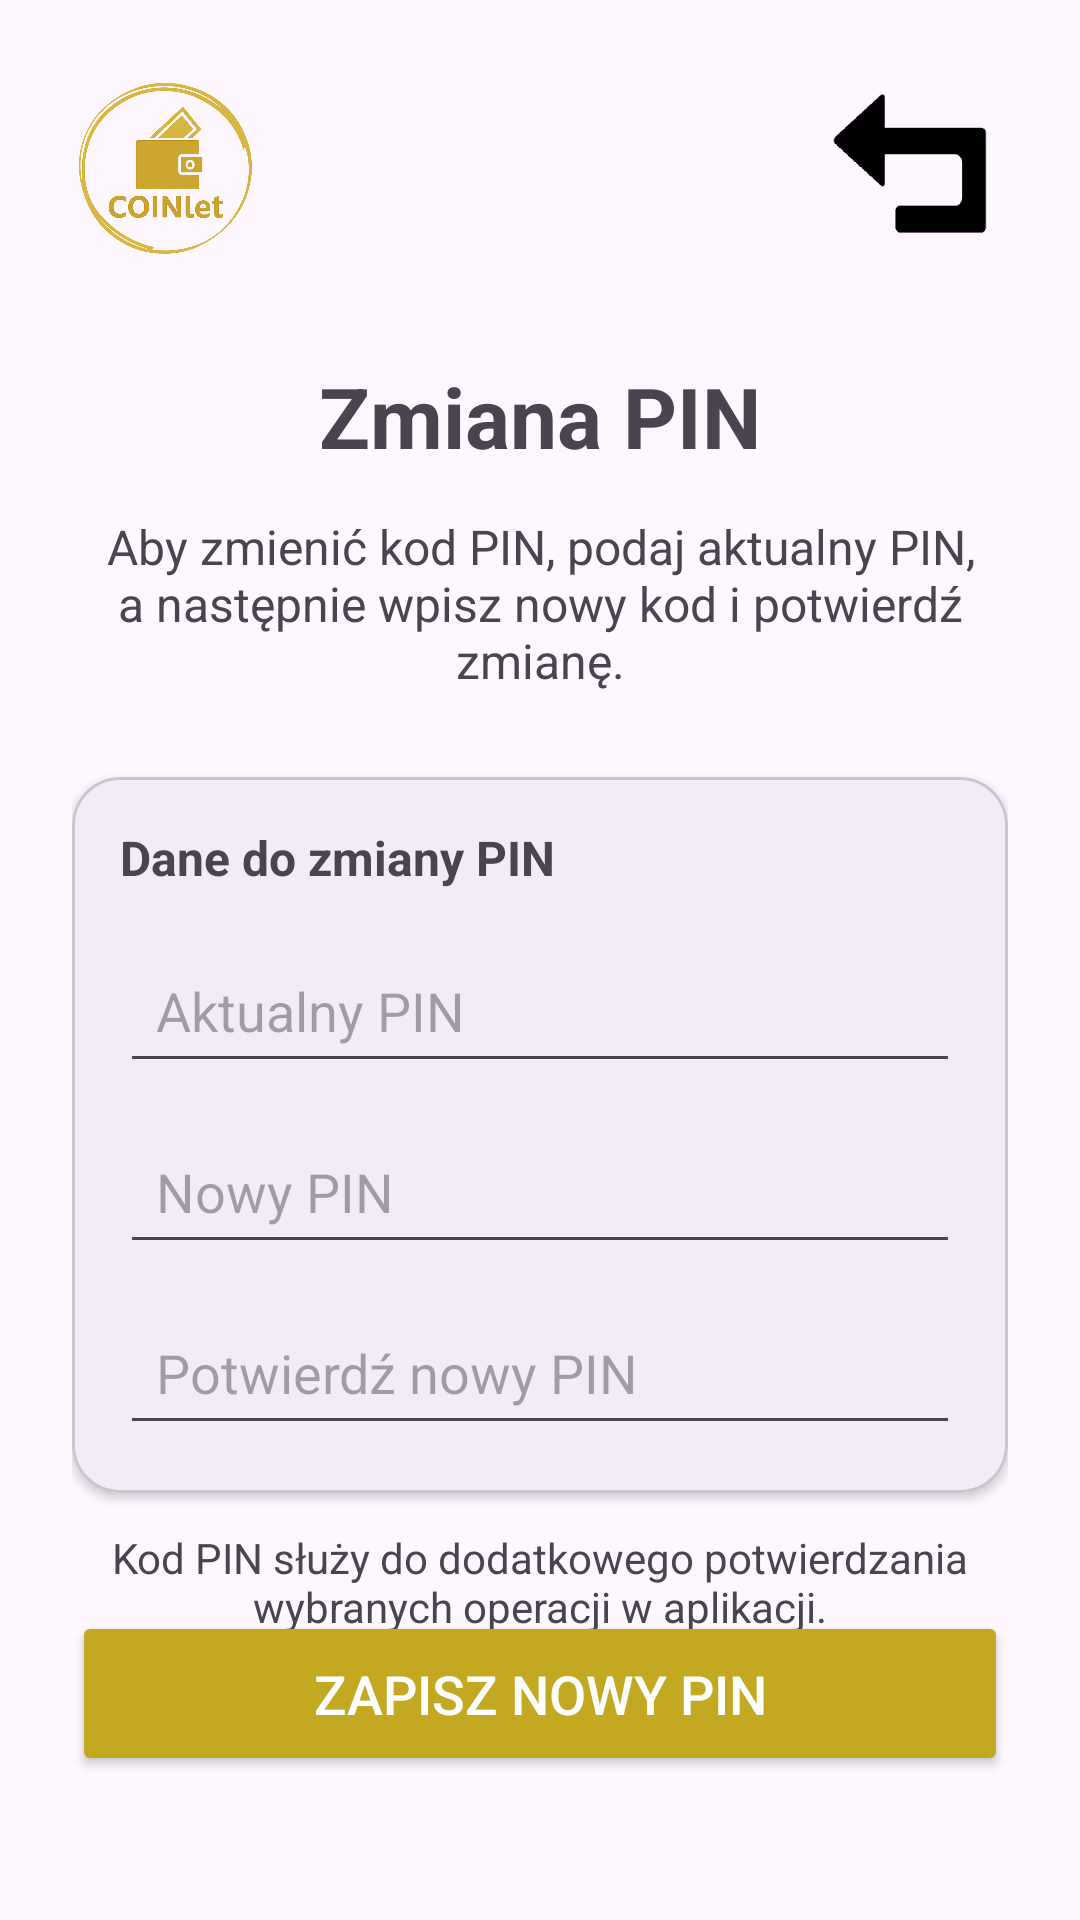

Icon click points for this 1080x1920 phone screenshot, format [x,y]:
back: [910,163]
